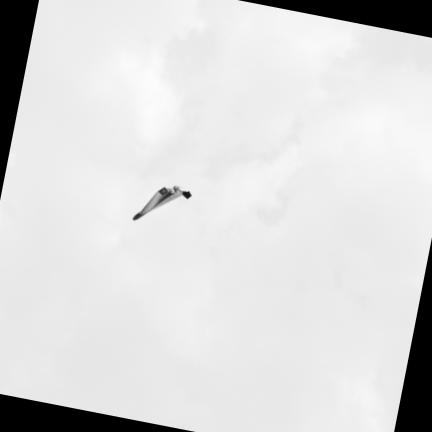Shahed: (133, 186, 190, 219)
